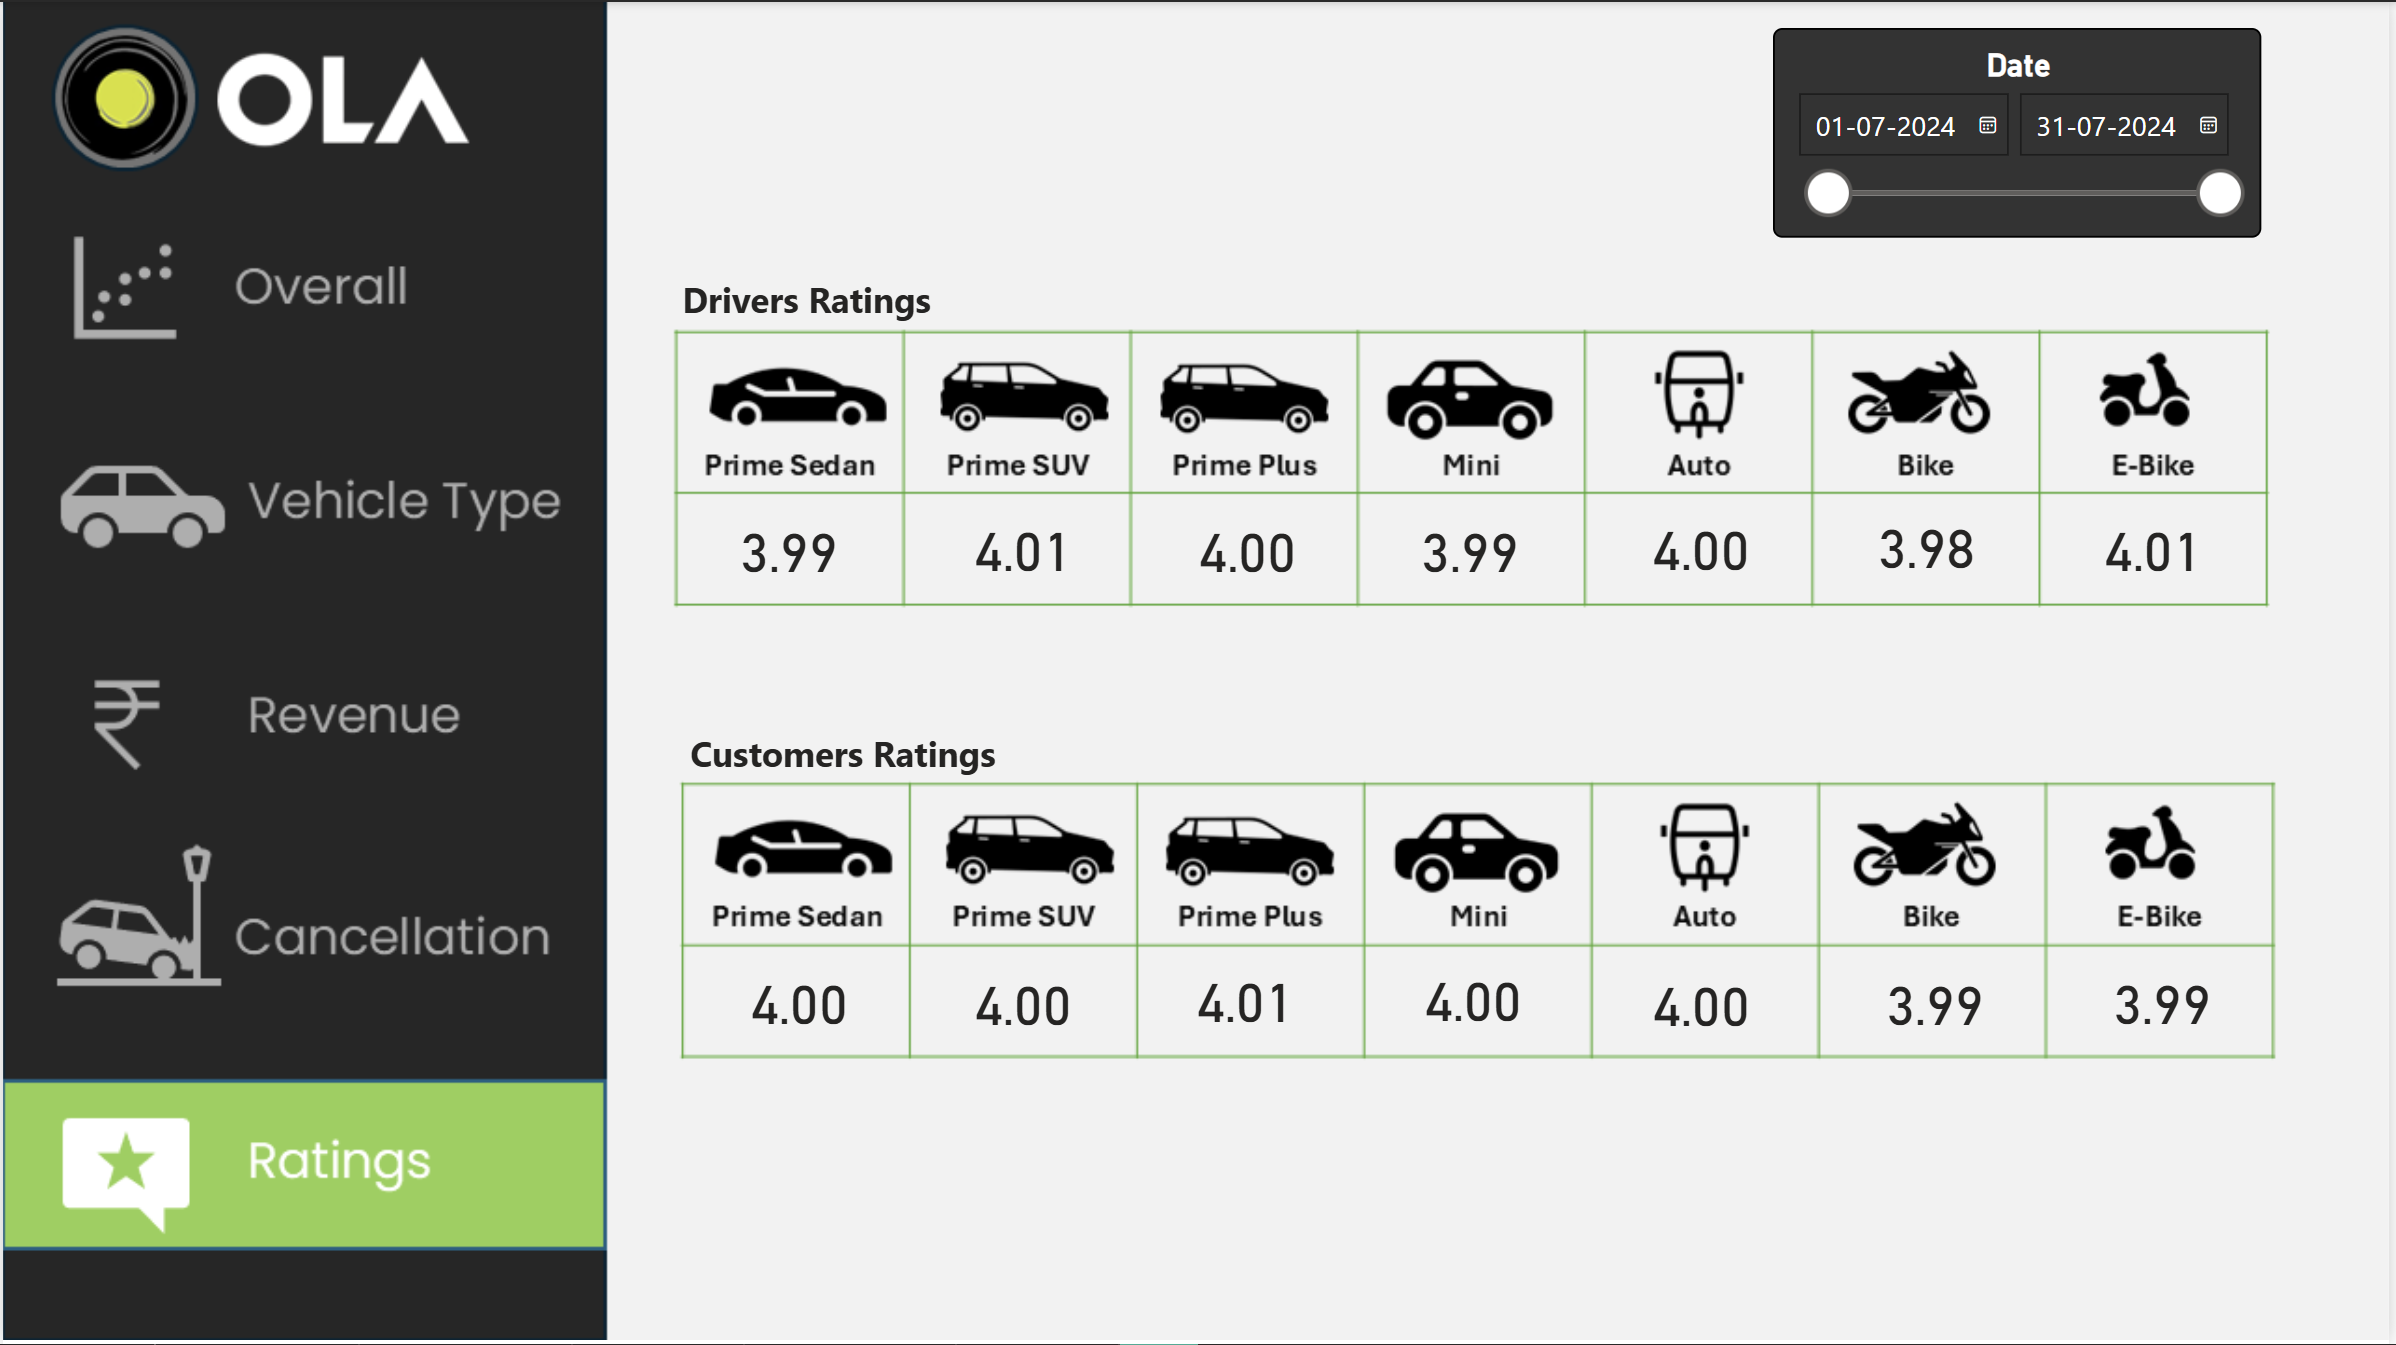

Layout of this report page (visuals, bound fields, positions):
{"tool":"powerbi","page":{"name":"Ratings","canvas":[1280,720],"ordinal":4},"visuals":[{"type":"actionButton","box":[0,213.7,322.8,95.7],"z":0},{"type":"actionButton","box":[0,338.4,322.8,93.5],"z":1000},{"type":"actionButton","box":[0,445.2,322.8,93.5],"z":2000},{"type":"actionButton","box":[0,575.4,322.8,93.5],"z":3000},{"type":"actionButton","box":[0,105.7,322.8,93.5],"z":4000},{"type":"textbox","box":[359.5,141.4,162.5,35.6],"z":5000},{"type":"textbox","box":[364,385.1,180.3,35.6],"z":6000},{"type":"card","fields":{"Values":["Avg(July.Driver_Ratings)"]},"box":[364.3,268.9,115.7,48.8],"z":7000},{"type":"card","fields":{"Values":["Avg(July.Driver_Ratings)"]},"box":[489.1,268.9,115.7,47.7],"z":7001},{"type":"card","fields":{"Values":["Avg(July.Driver_Ratings)"]},"box":[604.8,268.9,124.8,48.8],"z":7002},{"type":"card","fields":{"Values":["Avg(July.Driver_Ratings)"]},"box":[729.6,270.1,114.6,46.5],"z":7003},{"type":"card","fields":{"Values":["Avg(July.Driver_Ratings)"]},"box":[853.3,268.9,115.7,46.5],"z":7004},{"type":"card","fields":{"Values":["Avg(July.Driver_Ratings)"]},"box":[969.1,265.5,126,53.3],"z":7005},{"type":"card","fields":{"Values":["Avg(July.Driver_Ratings)"]},"box":[1095,268.9,115.7,47.7],"z":7006},{"type":"card","fields":{"Values":["Avg(July.Customer_Rating)"]},"box":[364.8,510.8,124.5,51.5],"z":7007},{"type":"card","fields":{"Values":["Avg(July.Customer_Rating)"]},"box":[489.5,512.6,115.8,47.9],"z":7008},{"type":"card","fields":{"Values":["Avg(July.Customer_Rating)"]},"box":[978.9,512.6,115.8,47.9],"z":7009},{"type":"card","fields":{"Values":["Avg(July.Customer_Rating)"]},"box":[853.1,512.9,115.9,49.4],"z":7010},{"type":"card","fields":{"Values":["Avg(July.Customer_Rating)"]},"box":[730.3,511.1,115.8,47.9],"z":7011},{"type":"card","fields":{"Values":["Avg(July.Customer_Rating)"]},"box":[608.3,511.1,115.8,49.4],"z":7012},{"type":"card","fields":{"Values":["Avg(July.Customer_Rating)"]},"box":[1094.5,510.8,127.7,51.5],"z":7013},{"type":"slicer","title":"Date","fields":{"Values":["July.Date"]},"box":[949.6,13.9,261.8,112.7],"z":7014}]}

Visuals, with their boxes in screenshot pixels (x1, y1, x2, y2), scaled from the page's 1280x720 canvas onto the 2396x1345 screenshot:
actionButton: detection(0, 399, 604, 578)
actionButton: detection(0, 632, 604, 807)
actionButton: detection(0, 832, 604, 1006)
actionButton: detection(0, 1075, 604, 1250)
actionButton: detection(0, 197, 604, 372)
textbox: detection(673, 264, 977, 331)
textbox: detection(681, 719, 1019, 786)
card - Avg(July.Driver_Ratings): detection(682, 502, 898, 593)
card - Avg(July.Driver_Ratings): detection(916, 502, 1132, 591)
card - Avg(July.Driver_Ratings): detection(1132, 502, 1366, 593)
card - Avg(July.Driver_Ratings): detection(1366, 505, 1580, 591)
card - Avg(July.Driver_Ratings): detection(1597, 502, 1814, 589)
card - Avg(July.Driver_Ratings): detection(1814, 496, 2050, 596)
card - Avg(July.Driver_Ratings): detection(2050, 502, 2266, 591)
card - Avg(July.Customer_Rating): detection(683, 954, 916, 1050)
card - Avg(July.Customer_Rating): detection(916, 958, 1133, 1047)
card - Avg(July.Customer_Rating): detection(1832, 958, 2049, 1047)
card - Avg(July.Customer_Rating): detection(1597, 958, 1814, 1050)
card - Avg(July.Customer_Rating): detection(1367, 955, 1584, 1044)
card - Avg(July.Customer_Rating): detection(1139, 955, 1355, 1047)
card - Avg(July.Customer_Rating): detection(2049, 954, 2288, 1050)
"Date" slicer: detection(1778, 26, 2268, 236)
